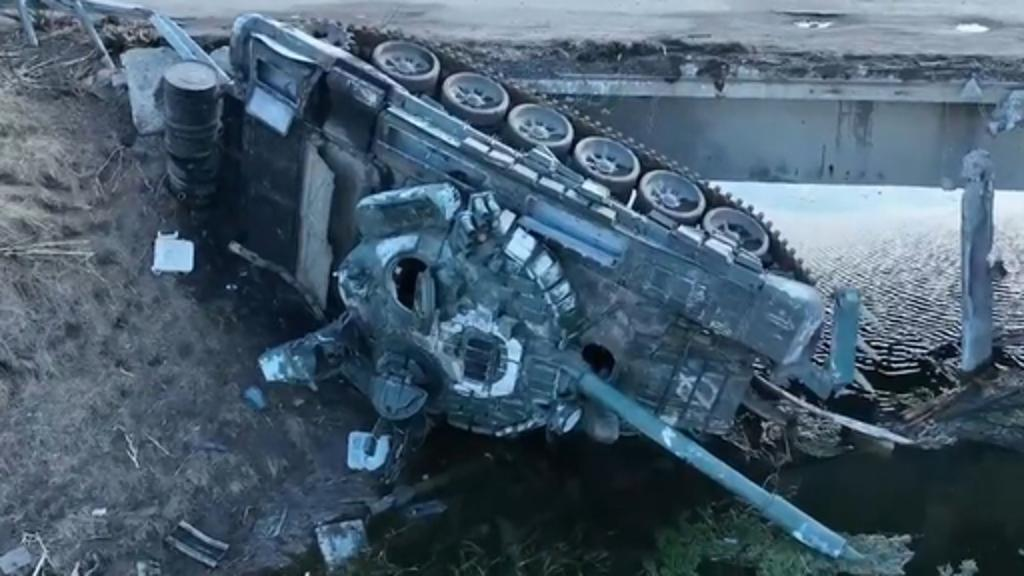TANK: (152, 4, 818, 482)
